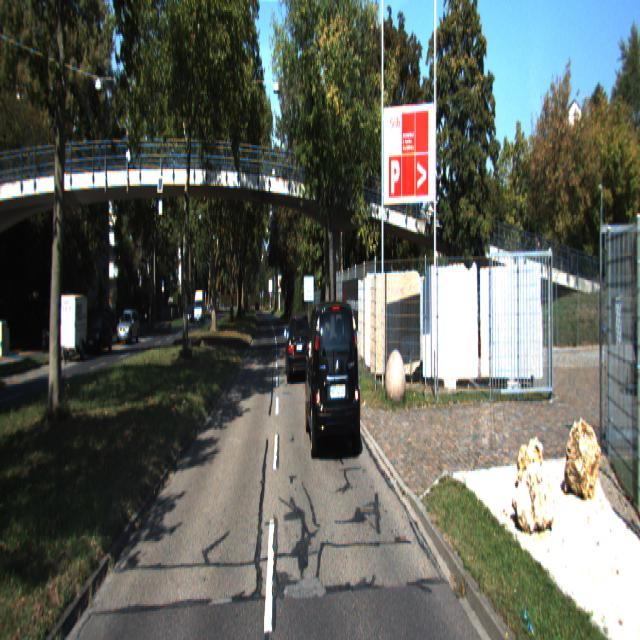Car: (304, 295, 364, 459), (285, 311, 311, 382), (116, 310, 139, 346)
